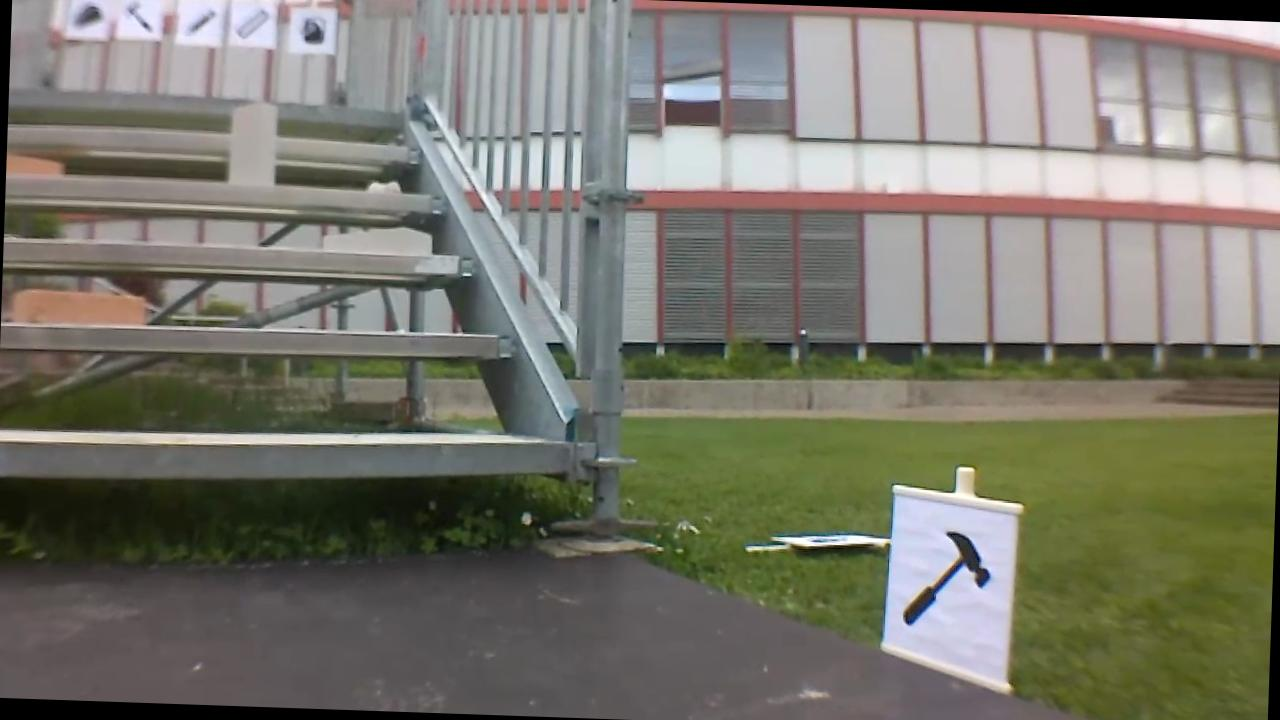brick: (12, 290, 141, 327), (228, 100, 275, 186), (324, 223, 431, 254), (8, 155, 60, 174)
bucket: (294, 9, 329, 48)
hammer: (892, 521, 998, 645)
pencil: (178, 1, 217, 41)
ruler: (230, 4, 272, 43)
